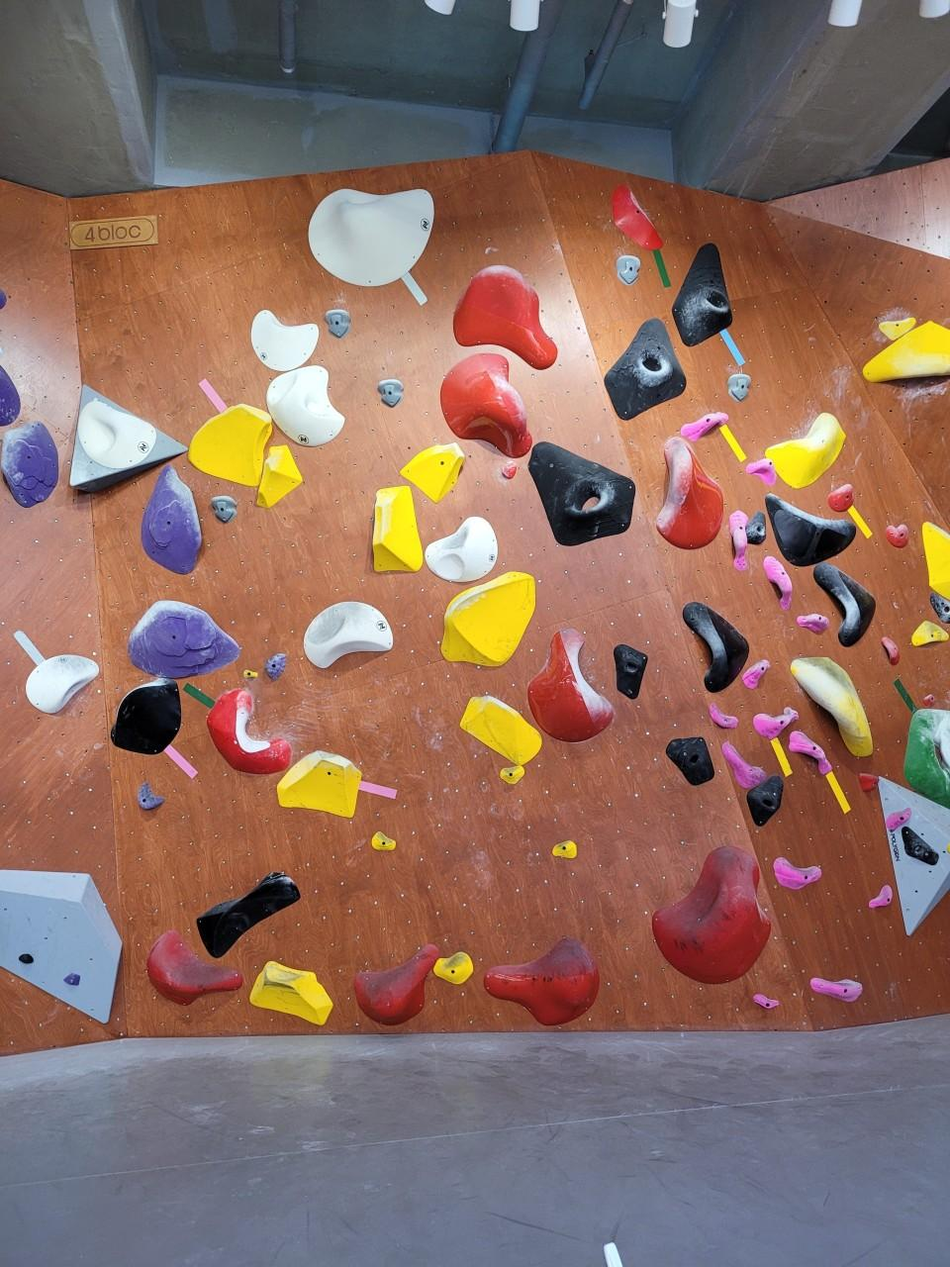hold: (652, 846, 770, 983), (308, 189, 432, 286), (528, 442, 634, 545), (454, 265, 556, 369), (484, 937, 599, 1025), (527, 630, 613, 741), (440, 353, 531, 457), (197, 873, 299, 957), (441, 573, 534, 665), (129, 601, 239, 678), (605, 318, 686, 419), (791, 657, 872, 756), (655, 436, 723, 546), (207, 688, 291, 774), (146, 930, 242, 1004), (188, 404, 272, 486), (356, 944, 440, 1024), (765, 494, 855, 565), (266, 365, 343, 447), (142, 466, 201, 573), (765, 412, 845, 488), (303, 602, 392, 668), (684, 602, 748, 692), (673, 244, 730, 345), (277, 751, 361, 818), (77, 398, 156, 469), (460, 698, 541, 764), (249, 961, 332, 1025), (863, 321, 949, 382), (111, 680, 180, 754), (0, 422, 58, 507), (814, 563, 874, 645), (425, 517, 497, 582), (903, 709, 949, 810), (372, 487, 423, 570), (26, 655, 98, 713), (252, 310, 318, 371), (401, 444, 464, 502), (612, 185, 662, 250), (257, 445, 302, 507), (667, 737, 713, 784), (921, 522, 949, 599), (722, 742, 767, 789), (789, 730, 833, 775), (746, 775, 783, 826), (615, 644, 646, 699), (763, 555, 792, 610), (773, 857, 821, 889), (752, 707, 799, 739), (681, 412, 730, 441), (902, 828, 939, 864), (809, 977, 862, 1002), (433, 951, 473, 984), (0, 366, 20, 426), (728, 511, 747, 571), (911, 621, 949, 646), (746, 458, 777, 486), (879, 317, 916, 340), (742, 659, 769, 688), (211, 495, 237, 523), (828, 483, 853, 512), (325, 308, 349, 338), (710, 704, 737, 729), (617, 254, 639, 284), (138, 783, 163, 809), (378, 379, 402, 406), (728, 372, 750, 401), (885, 807, 911, 831), (930, 592, 949, 624), (747, 512, 766, 542), (265, 653, 286, 680), (881, 637, 900, 665), (869, 885, 892, 908), (370, 831, 395, 851), (799, 615, 828, 632), (500, 764, 523, 785), (885, 526, 908, 547), (551, 840, 577, 858), (753, 994, 779, 1009), (859, 774, 877, 791), (503, 462, 518, 479), (64, 973, 80, 985), (922, 694, 935, 706), (0, 289, 7, 309), (245, 669, 257, 678), (19, 955, 33, 962)
volume: (0, 870, 121, 1023), (70, 387, 186, 491), (877, 776, 949, 935)
